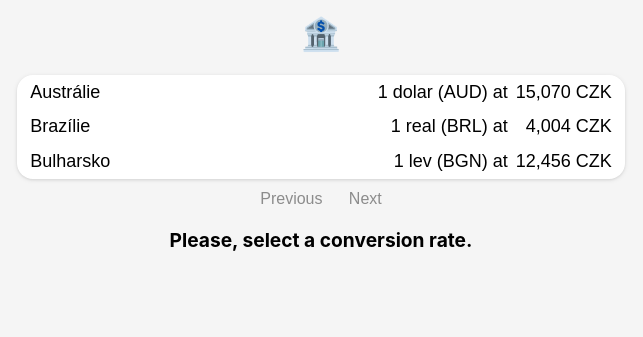
Test: conversion cost calculation › calculates cost
Click the button with test id "table-row-AUD" at {"x": 65, "y": 92}, box [17,75,625,110]
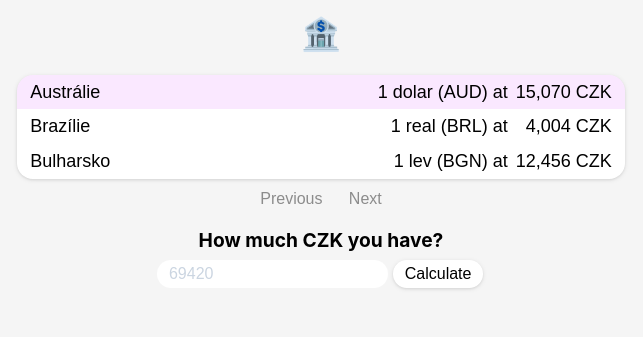
Type "23" into the number field with test id "amount-input" at {"x": 272, "y": 274}, box [157,260,388,288]
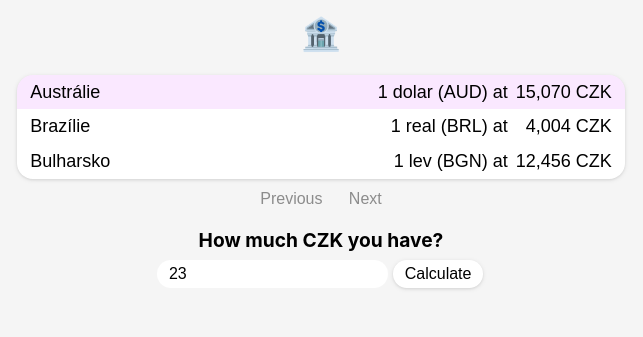
Click the button with test id "amount-submit" at {"x": 438, "y": 274}, box [393,260,483,288]
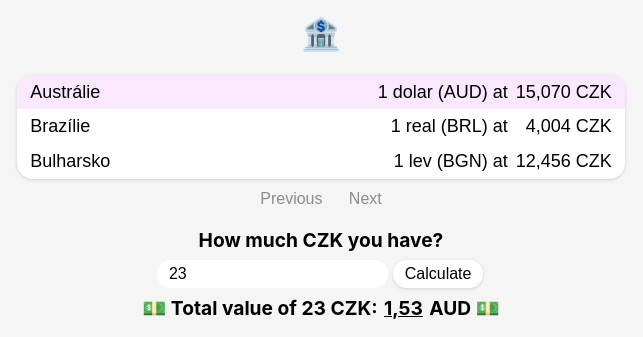
Result: the text with test id "amount-cost" reads "1,53" at [384,296,423,320]
